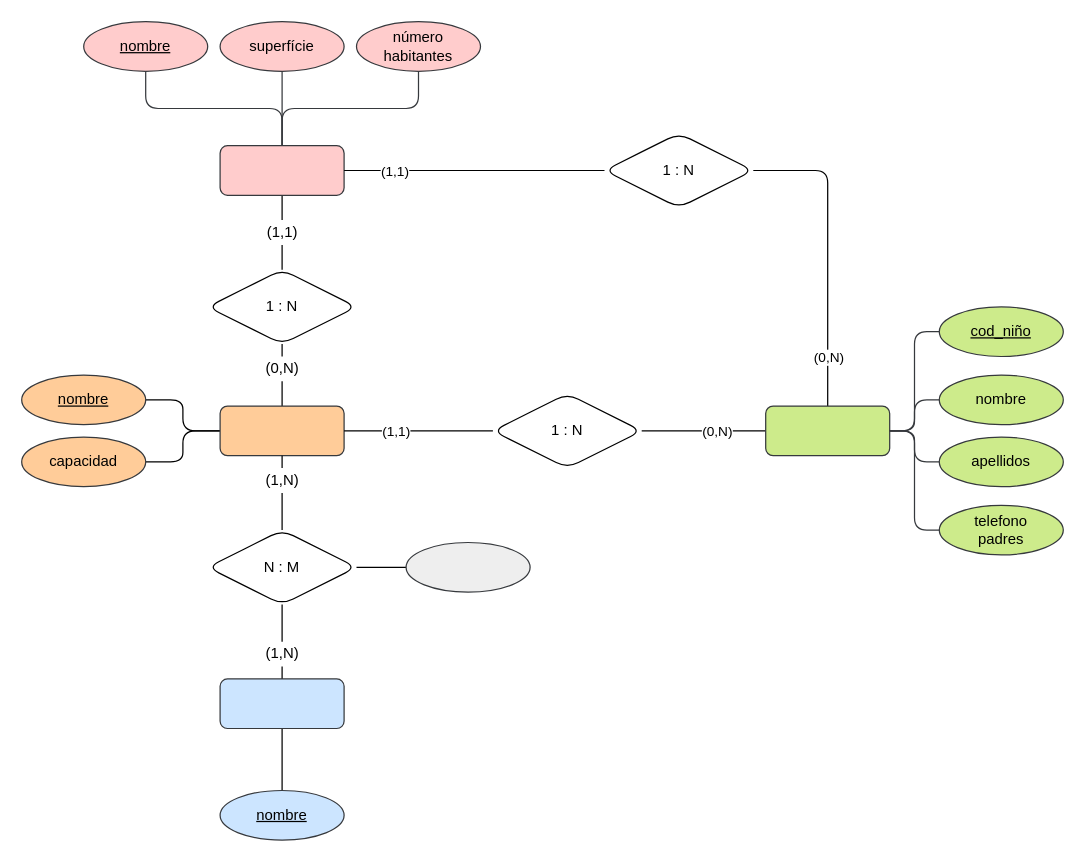
The diagram is 1085 pixels wide and 862 high, and some of its shapes have lost their labels. The centre of each missing label's shape, as x and y in pixels:
"ACTIVIDADES" goes at point (281, 703).
"CASA" goes at point (281, 430).
"COMARCA" goes at point (281, 169).
"nivel" goes at point (467, 566).
"NIÑOS" goes at point (827, 430).
